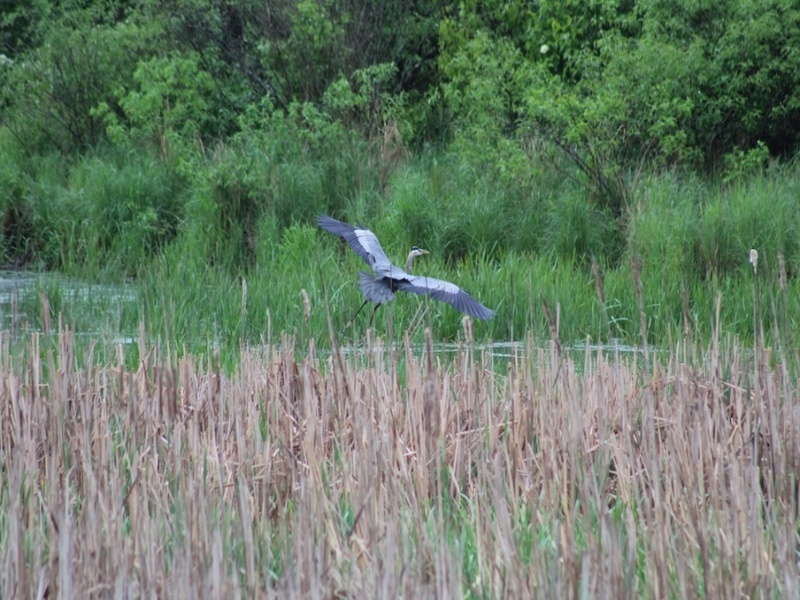heron: (312, 208, 501, 337)
